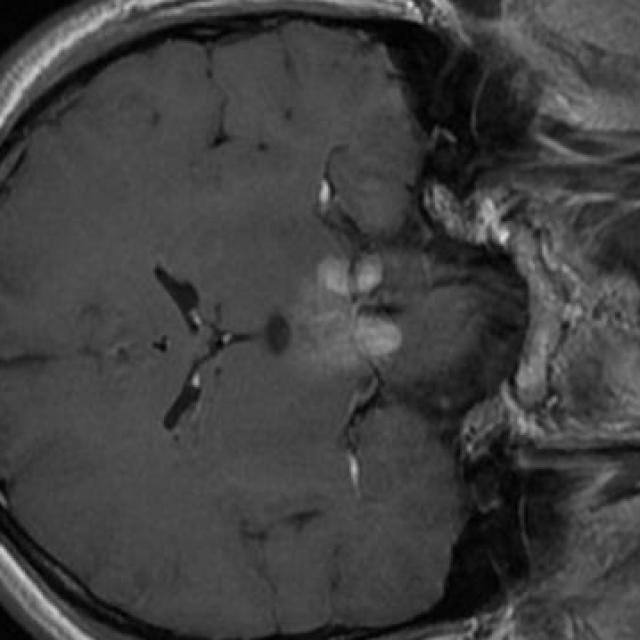pituitary: (292, 255, 399, 367)
